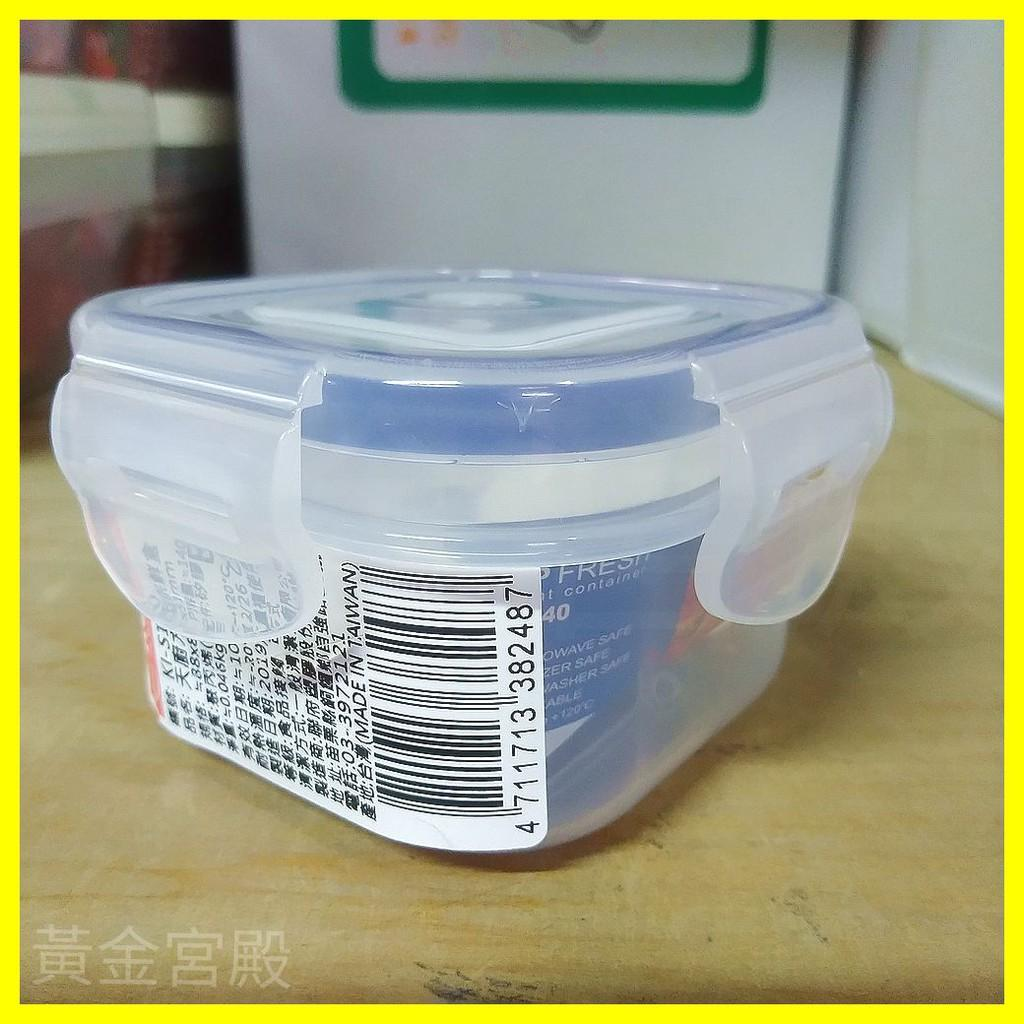plastic: (57, 257, 888, 857)
